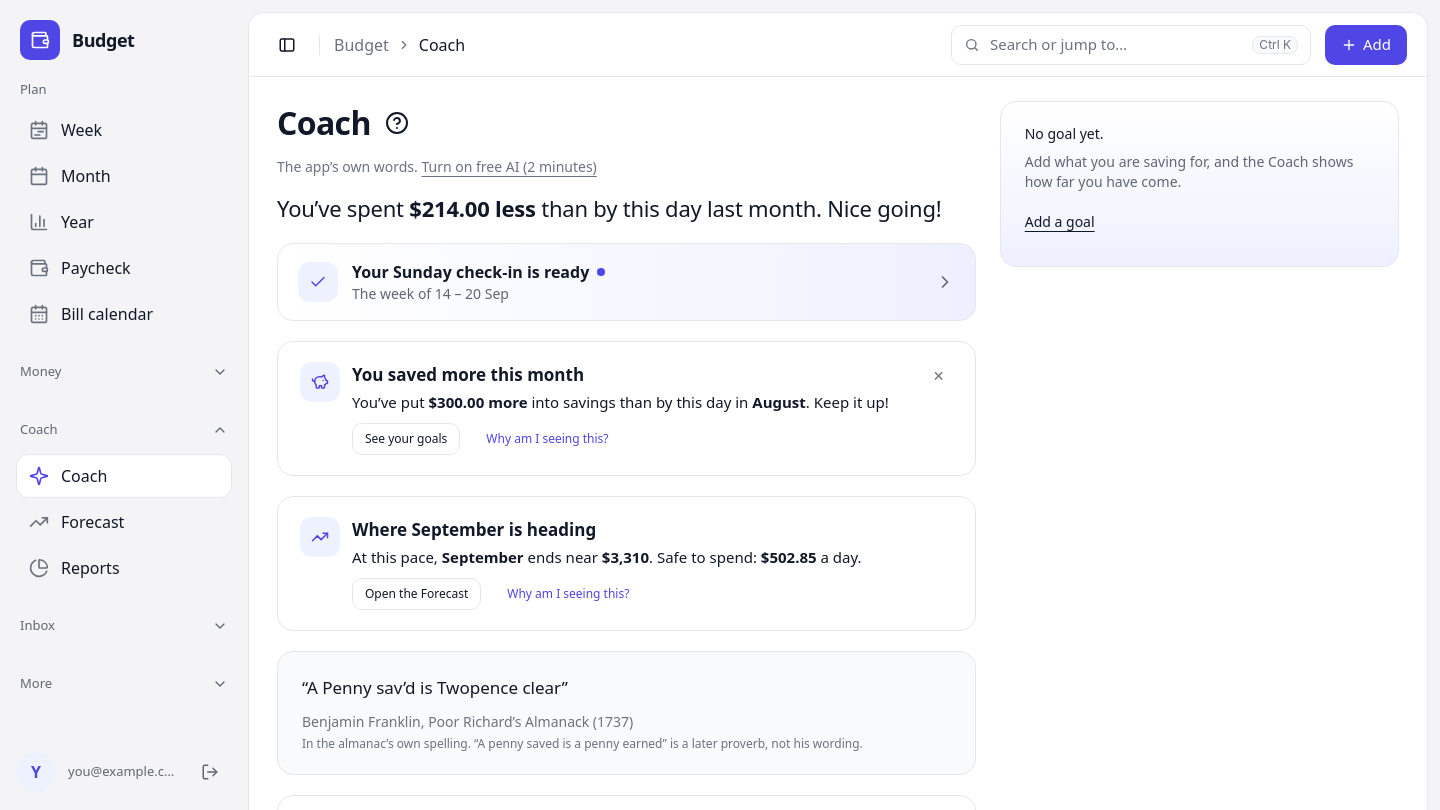
Test case: the Coach’s forecast card (plan A13) › lists the engine’s figures behind it
Click the button "Why am I seeing this?" below "At this pace,".
click(568, 594)  # box [495,578,642,610]
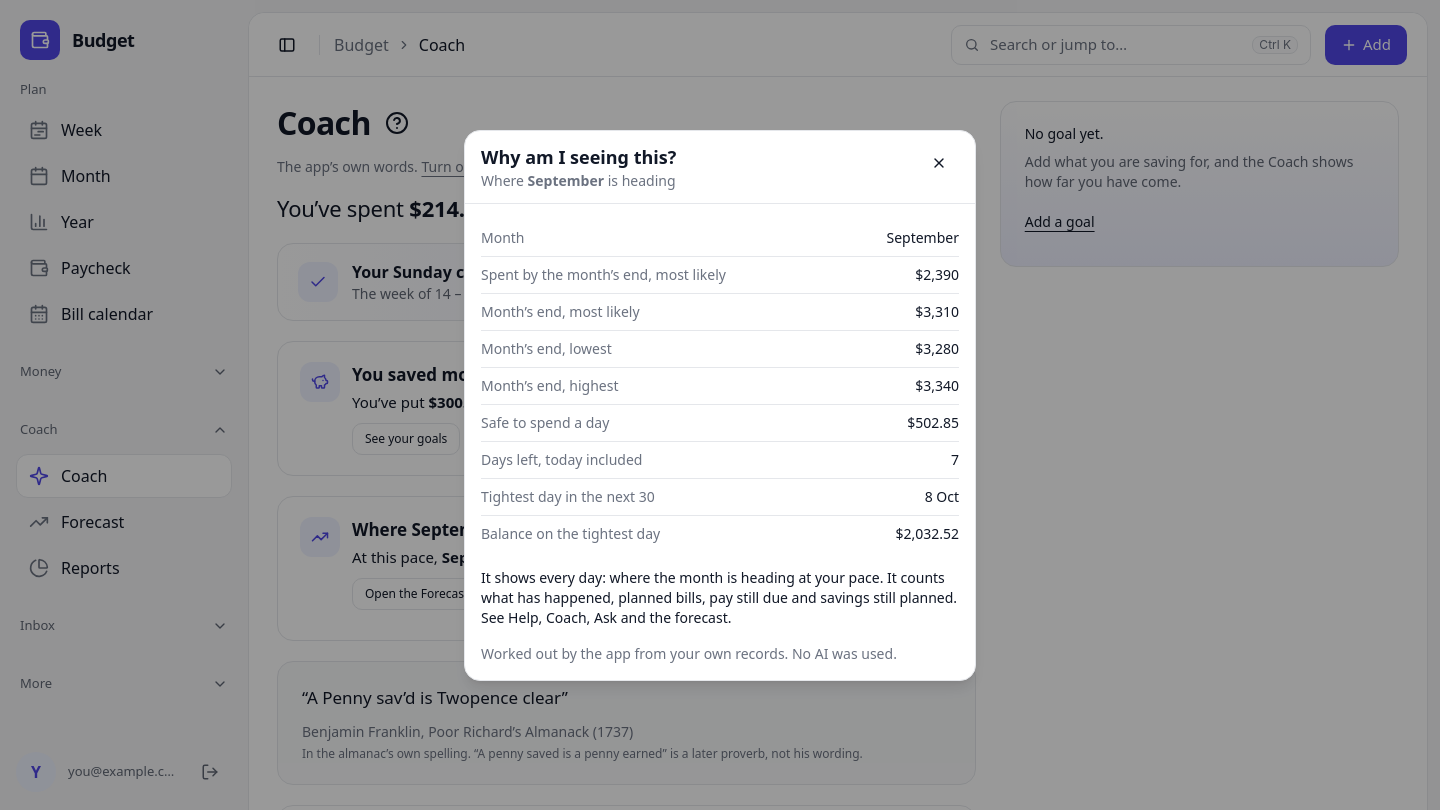
Check: the text "8 Oct" is shown, box [925,486,959,506]
